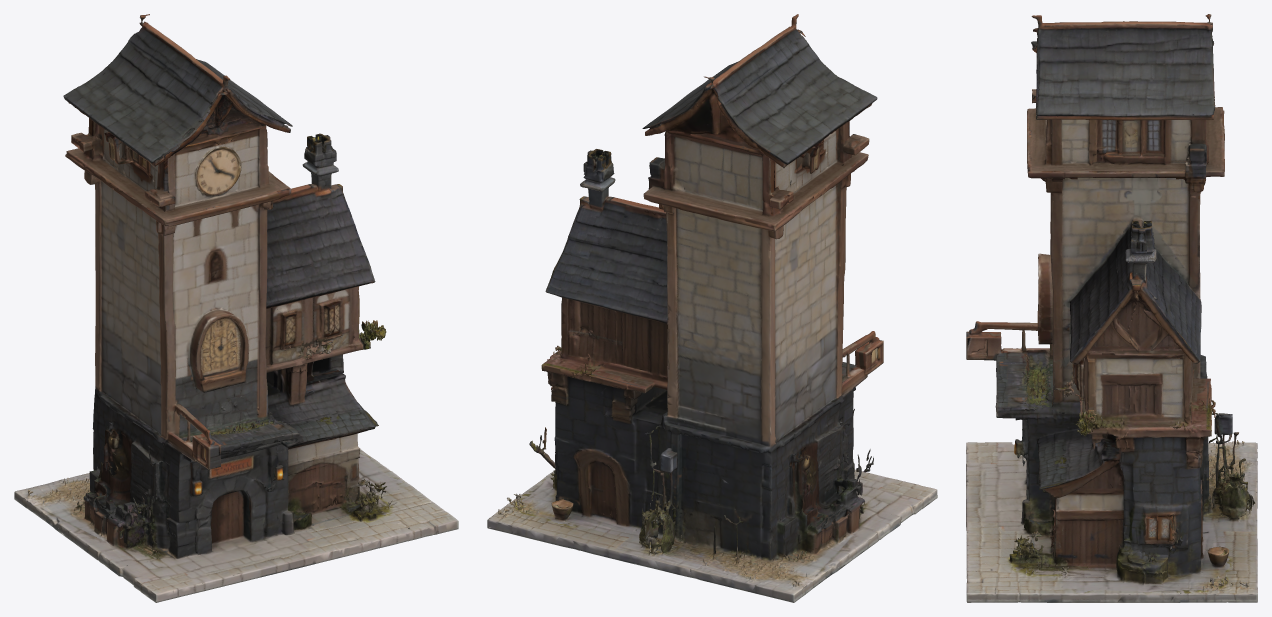
File: Meshy_AI_Old_Town_Clock_Tower_1016102324_texture.fbx
3 renders of one model, left to right at view 1: azimuth 30°, elevation 25°; view 2: azimuth 150°, elevation 25°; view 3: azimuth 270°, elevation 25°, orthographic. The views are drawn at different scales.
Parts seen in each view (by area): view 1: Mesh_0; view 2: Mesh_0; view 3: Mesh_0.
Boxes of the visible parts, bbox=[...] form: Mesh_0: bbox=[14, 14, 458, 602]; Mesh_0: bbox=[487, 14, 937, 602]; Mesh_0: bbox=[966, 14, 1257, 602].
Size of the model in its own units: 134 by 200 by 108.
Materials: 1 (1 with a texture image).
